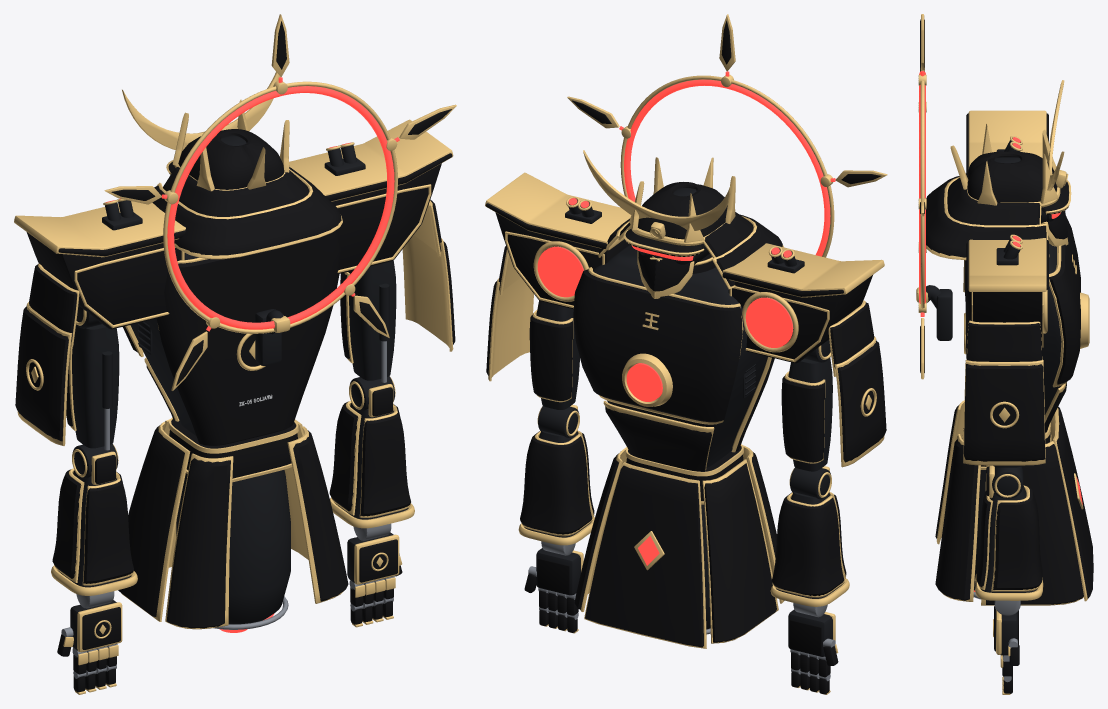
The model's file is king.glb.
3 views of the same model, side by side, from view 1: azimuth 30°, elevation 25°; view 2: azimuth 150°, elevation 25°; view 3: azimuth 270°, elevation 25° (orthographic). The views are drawn at different scales.
Visible parts, largest first — view 1: CHEST_mesh, BODY_mesh, HEAD_mesh, ARM_0_mesh, ARM_1_mesh, ELBOW_0_mesh, ELBOW_1_mesh, HAND_1_mesh, HAND_0_mesh; view 2: CHEST_mesh, BODY_mesh, ARM_0_mesh, HEAD_mesh, ARM_1_mesh, ELBOW_0_mesh, ELBOW_1_mesh, SHOULDER_0, HAND_1_mesh, SHOULDER_1, HAND_0_mesh, CORE; view 3: CHEST_mesh, BODY_mesh, HEAD_mesh, ARM_1_mesh, ELBOW_1_mesh, HAND_1_mesh, WRIST_1_mesh, DIGIT_1_8_mesh.
Part boxes in pixels (left/top/right/bottom): CHEST_mesh: left=14, top=14, right=456, bottom=445; BODY_mesh: left=118, top=417, right=348, bottom=632; HEAD_mesh: left=122, top=72, right=342, bottom=259; ARM_0_mesh: left=15, top=263, right=119, bottom=450; ARM_1_mesh: left=340, top=199, right=455, bottom=382; ELBOW_0_mesh: left=51, top=444, right=137, bottom=595; ELBOW_1_mesh: left=329, top=376, right=414, bottom=528; HAND_1_mesh: left=347, top=532, right=399, bottom=584; HAND_0_mesh: left=70, top=600, right=122, bottom=652; CHEST_mesh: left=485, top=14, right=887, bottom=471; BODY_mesh: left=574, top=444, right=784, bottom=648; ARM_0_mesh: left=781, top=300, right=886, bottom=471; HEAD_mesh: left=583, top=150, right=783, bottom=298; ARM_1_mesh: left=486, top=246, right=579, bottom=409; ELBOW_0_mesh: left=770, top=466, right=849, bottom=606; ELBOW_1_mesh: left=518, top=404, right=594, bottom=545; SHOULDER_0: left=745, top=297, right=793, bottom=347; HAND_1_mesh: left=536, top=548, right=583, bottom=595; SHOULDER_1: left=537, top=246, right=583, bottom=297; HAND_0_mesh: left=788, top=609, right=835, bottom=656; CORE: left=626, top=363, right=662, bottom=401; CHEST_mesh: left=916, top=14, right=1089, bottom=432; BODY_mesh: left=935, top=400, right=1093, bottom=605; HEAD_mesh: left=926, top=80, right=1071, bottom=260; ARM_1_mesh: left=963, top=320, right=1045, bottom=467; ELBOW_1_mesh: left=975, top=465, right=1043, bottom=600; HAND_1_mesh: left=993, top=606, right=1018, bottom=655; WRIST_1_mesh: left=994, top=600, right=1020, bottom=615; DIGIT_1_8_mesh: left=1008, top=638, right=1019, bottom=665.
Bounding box in the file's own units: 1.34 × 2.14 × 0.5629.
